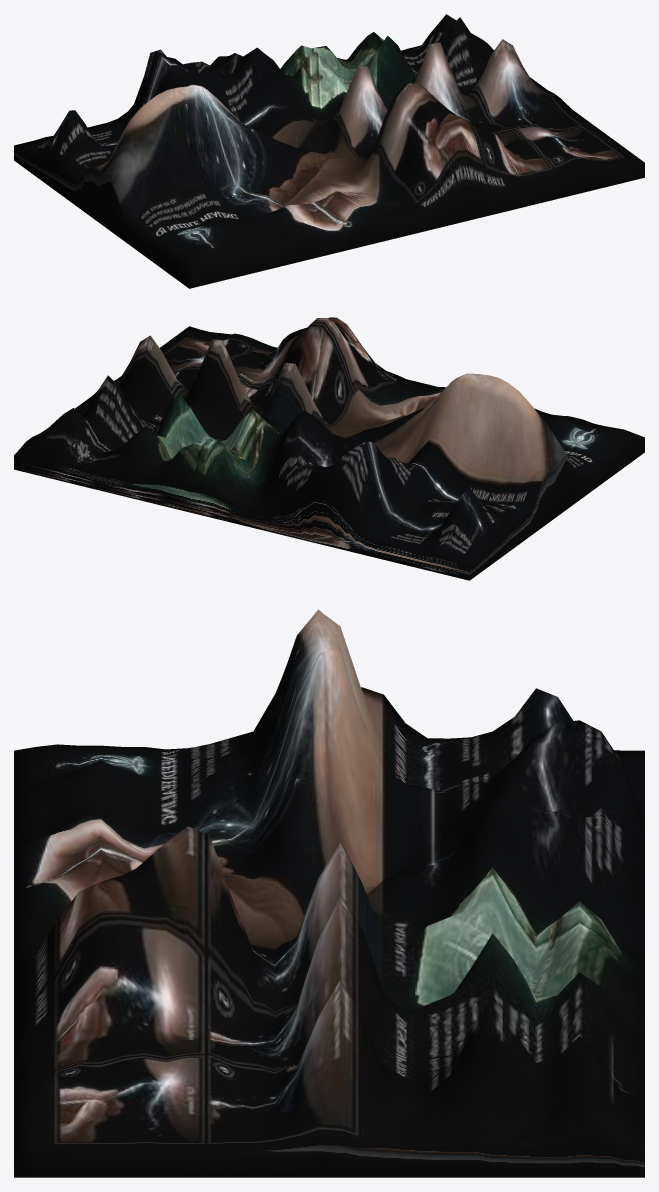
The model's file is CUL_20_Acupuncture_Needle.glb.
3 views of the same model, one above another, from view 1: azimuth 30°, elevation 25°; view 2: azimuth 150°, elevation 25°; view 3: azimuth 270°, elevation 25° (orthographic). The views are drawn at different scales.
Visible parts, largest first — view 1: CUL_20_Acupuncture_Needle; view 2: CUL_20_Acupuncture_Needle; view 3: CUL_20_Acupuncture_Needle.
Boxes of the visible parts, x1,y1,x2,y2 form: CUL_20_Acupuncture_Needle: (14, 14, 644, 288); CUL_20_Acupuncture_Needle: (14, 317, 644, 580); CUL_20_Acupuncture_Needle: (14, 609, 644, 1177).
Size of the model in its own units: 2 by 0.51 by 1.33.
1 material, 1 textured.
